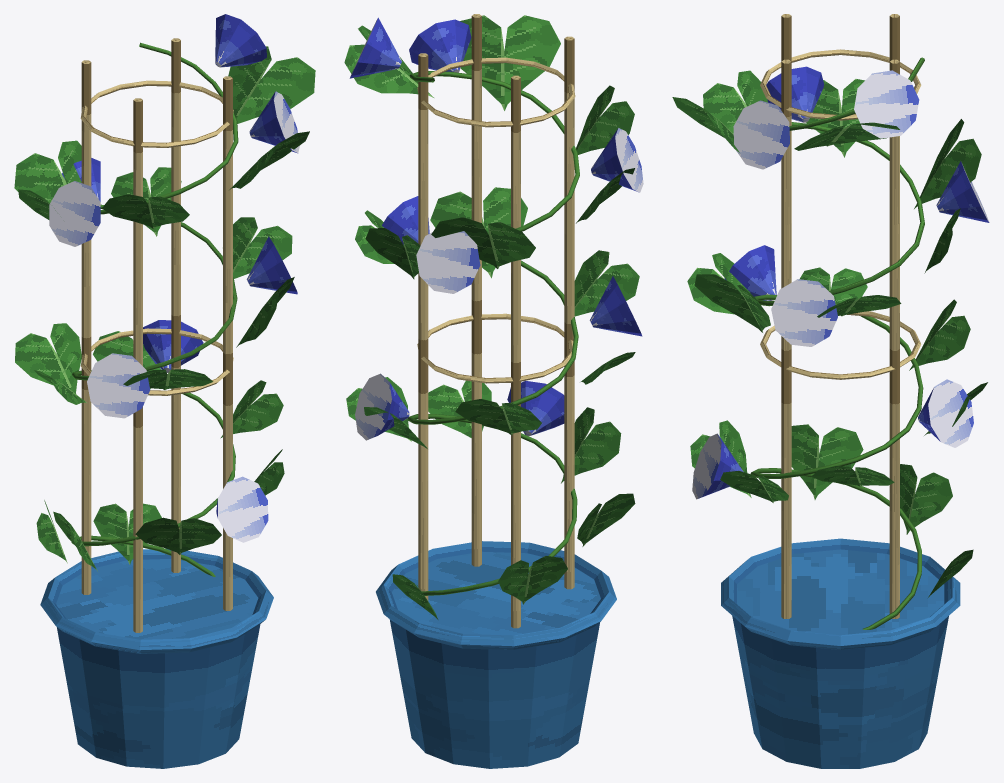
The model's file is asagao_bloom.glb.
3 views of the same model, side by side, from view 1: azimuth 30°, elevation 25°; view 2: azimuth 150°, elevation 25°; view 3: azimuth 270°, elevation 25° (orthographic). The views are drawn at different scales.
Parts seen in each view (by area): view 1: Cone; view 2: Cone; view 3: Cone.
Boxes of the visible parts, x1=… form: Cone: x1=14, y1=14, x2=315, y2=768; Cone: x1=344, y1=14, x2=643, y2=768; Cone: x1=672, y1=14, x2=989, y2=768.
Bounding box in the file's own units: 0.3153 × 0.7672 × 0.3106.
6 materials, 6 textured.
